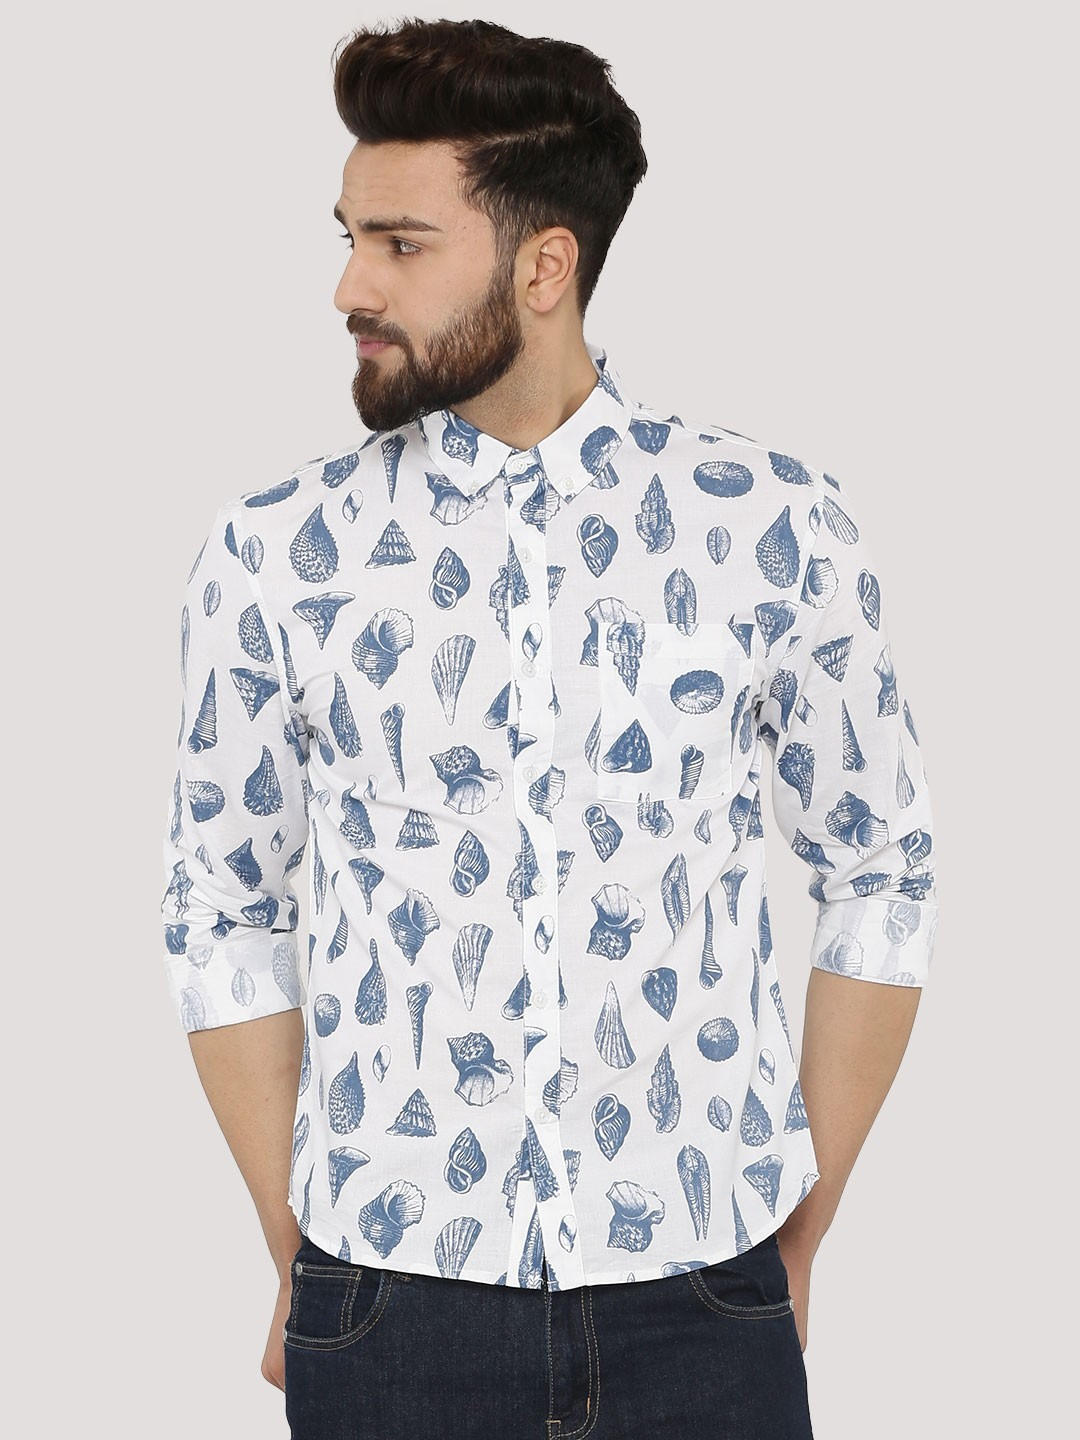Shirt: (137, 382, 1027, 1279)
